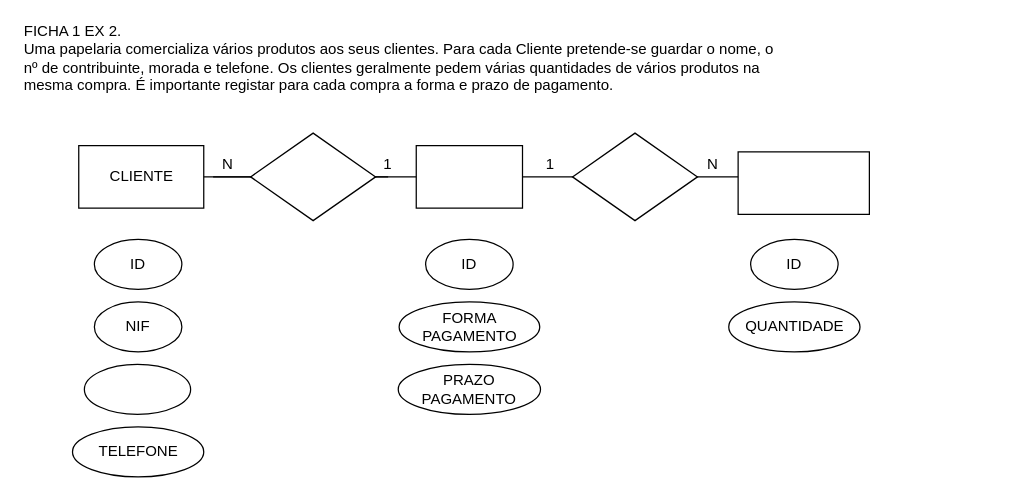
The diagram is 1018 pixels wide and 499 high, and some of its shapes have lost their labels. Here are the shapes that lost their labels. From the top down, the centre of each, then its label:
(312,176): efectua
(468,176): COMPRA
(634,176): contém
(803,182): PRODUTO
(137,388): MORADA
